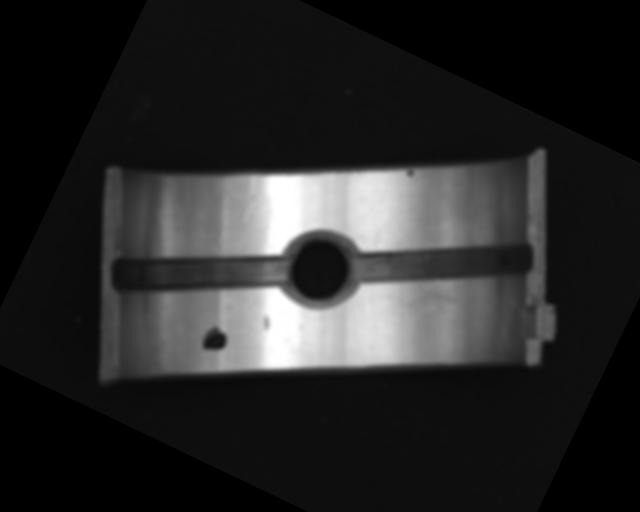blot: (198, 322, 232, 358), (404, 166, 417, 180)
bruise: (229, 172, 270, 226), (258, 313, 273, 332)
gap: (347, 181, 538, 344), (106, 196, 291, 352)
hole: (271, 219, 370, 321)
scratch: (383, 266, 480, 347)
